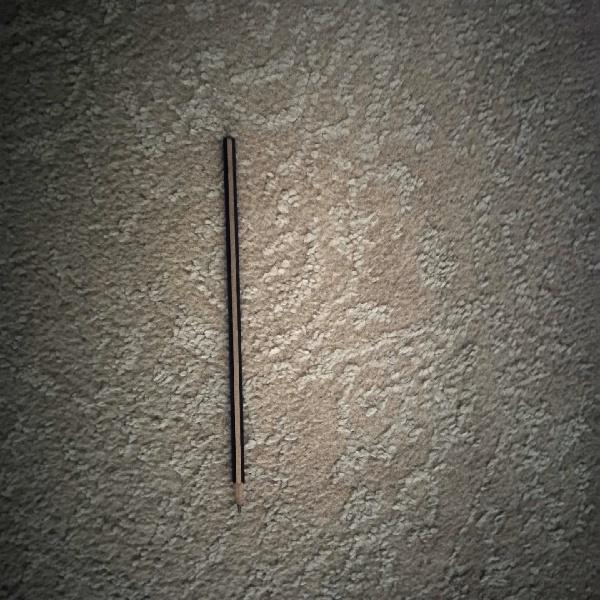pencil: (216, 134, 254, 519)
